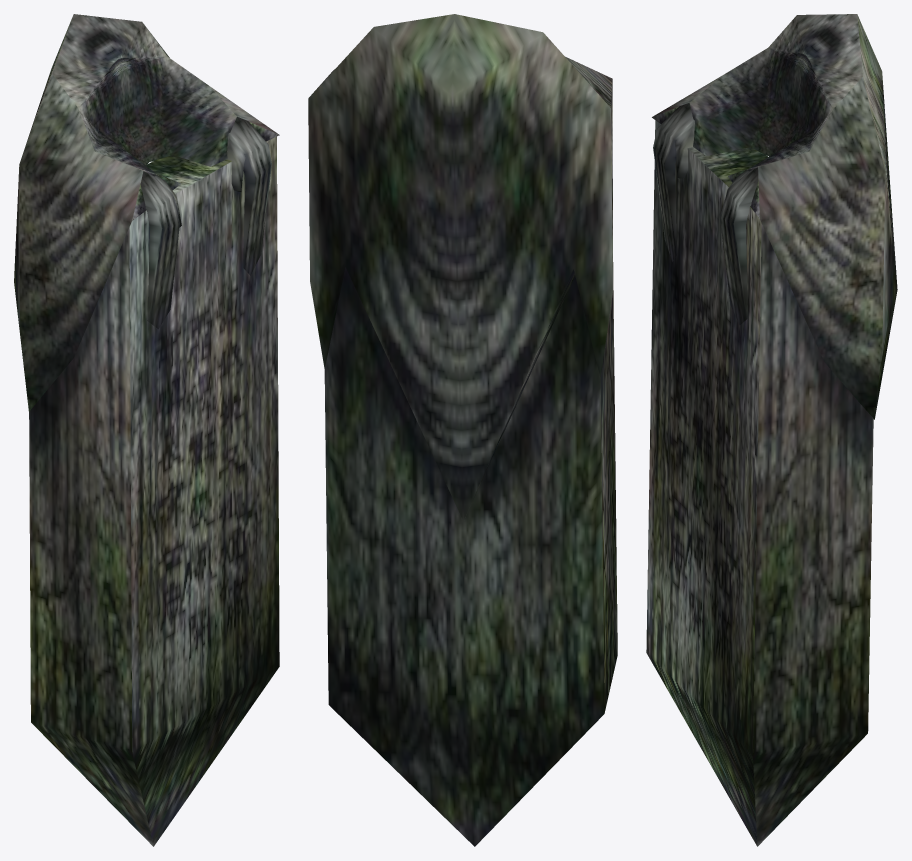
The model's file is cj_field_tomb2.glb.
The picture shows the model from 3 angles, left to right: view 1: azimuth 30°, elevation 25°; view 2: azimuth 150°, elevation 25°; view 3: azimuth 270°, elevation 25°; orthographic projection. The views are drawn at different scales.
Parts seen in each view (by area): view 1: CJ_field_tomb_2; view 2: CJ_field_tomb_2; view 3: CJ_field_tomb_2.
Part boxes in pixels (x1=…): CJ_field_tomb_2: x1=14, y1=14, x2=279, y2=846; CJ_field_tomb_2: x1=308, y1=14, x2=617, y2=846; CJ_field_tomb_2: x1=646, y1=14, x2=897, y2=846.
Size of the model in its own units: 1.51 by 4.52 by 1.26.
Materials: 1 (1 with a texture image).
